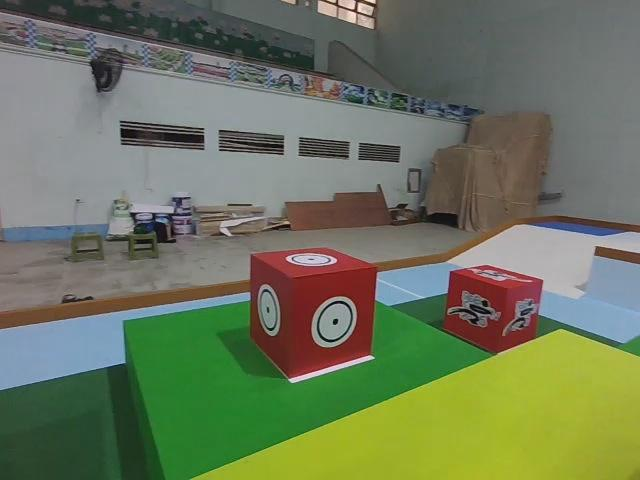R1: (441, 261, 545, 355)
R2 Real: (247, 243, 381, 382)
